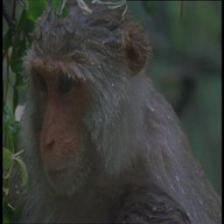monkey: (8, 2, 155, 204)
